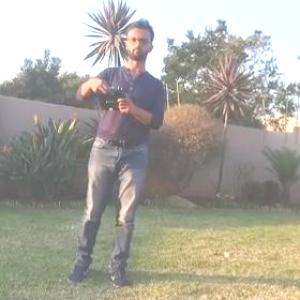follow: (62, 10, 168, 294)
